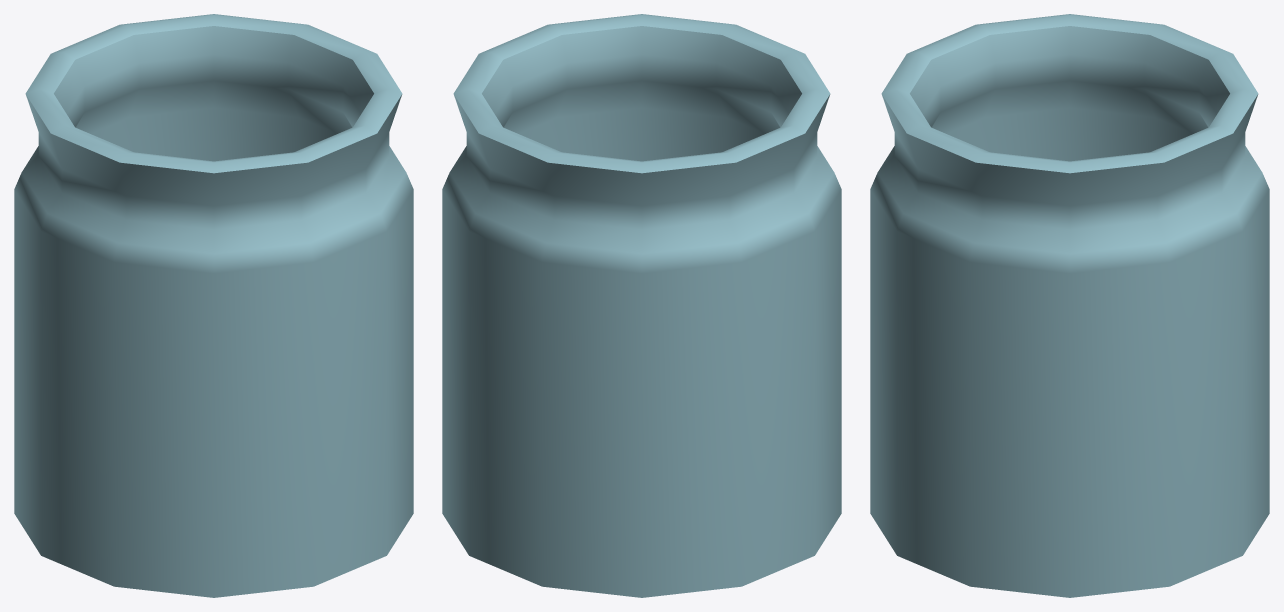
Rendered from HeartJar.fbx.
3 views of the same model, side by side, from view 1: azimuth 30°, elevation 25°; view 2: azimuth 150°, elevation 25°; view 3: azimuth 270°, elevation 25° (orthographic).
Visible parts, largest first — view 1: pCylinder21; view 2: pCylinder21; view 3: pCylinder21.
Boxes of the visible parts, left/top/right/bottom form: pCylinder21: left=14, top=14, right=413, bottom=597; pCylinder21: left=442, top=14, right=841, bottom=597; pCylinder21: left=870, top=14, right=1269, bottom=597.
Size of the model in its own units: 2.35 by 2.76 by 2.35.
